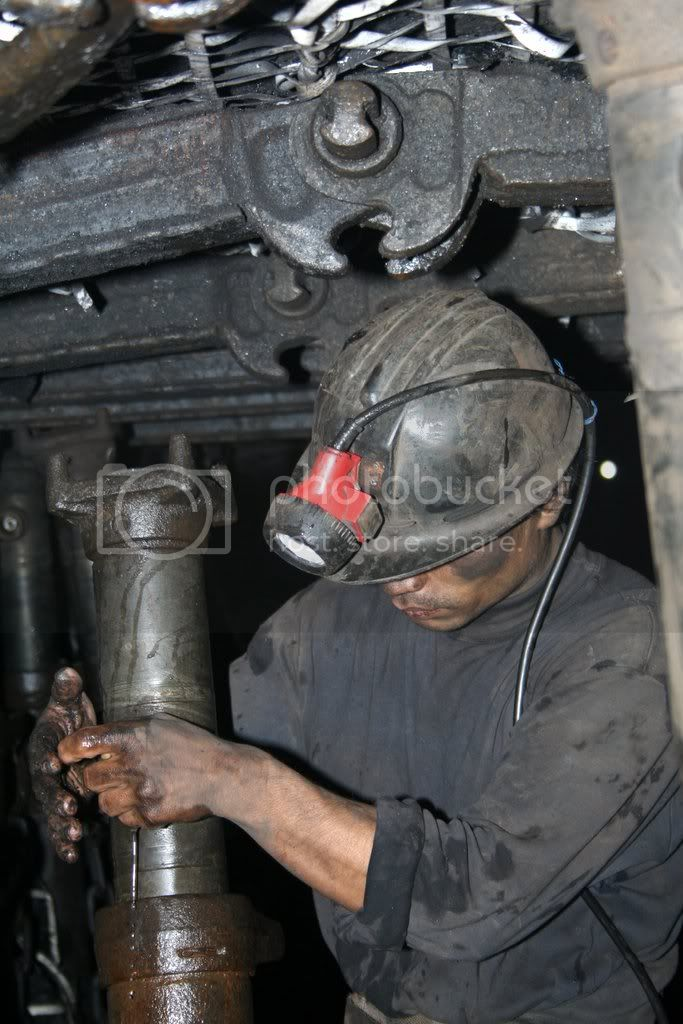helmet: (267, 281, 599, 645)
